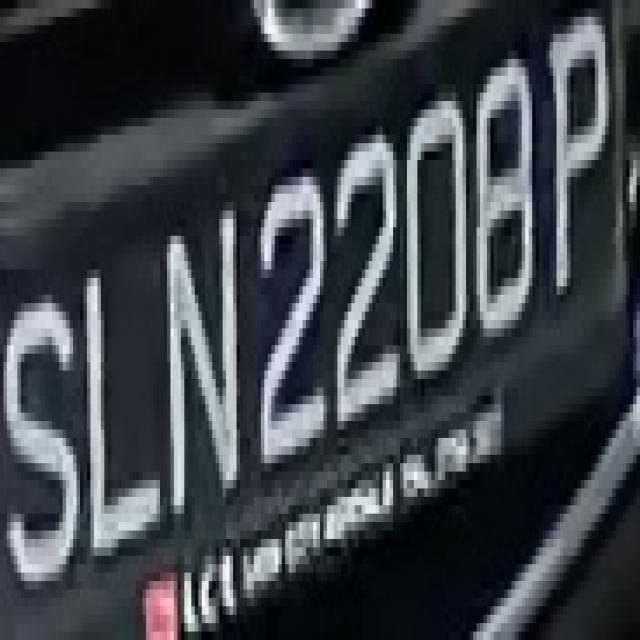0: (393, 101, 466, 396)
2: (250, 143, 334, 463), (317, 126, 400, 438)
8: (462, 59, 542, 354)
L: (70, 236, 170, 547)
N: (160, 185, 240, 531)
P: (546, 0, 616, 320)
S: (7, 253, 76, 606)
